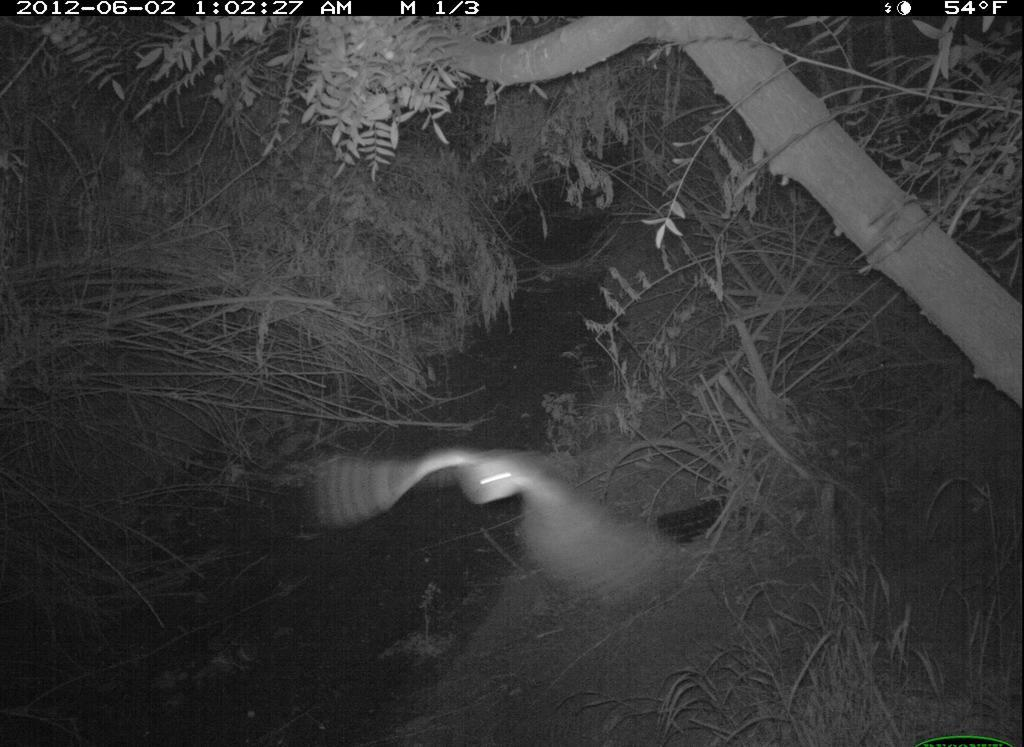bird: (285, 411, 725, 658)
